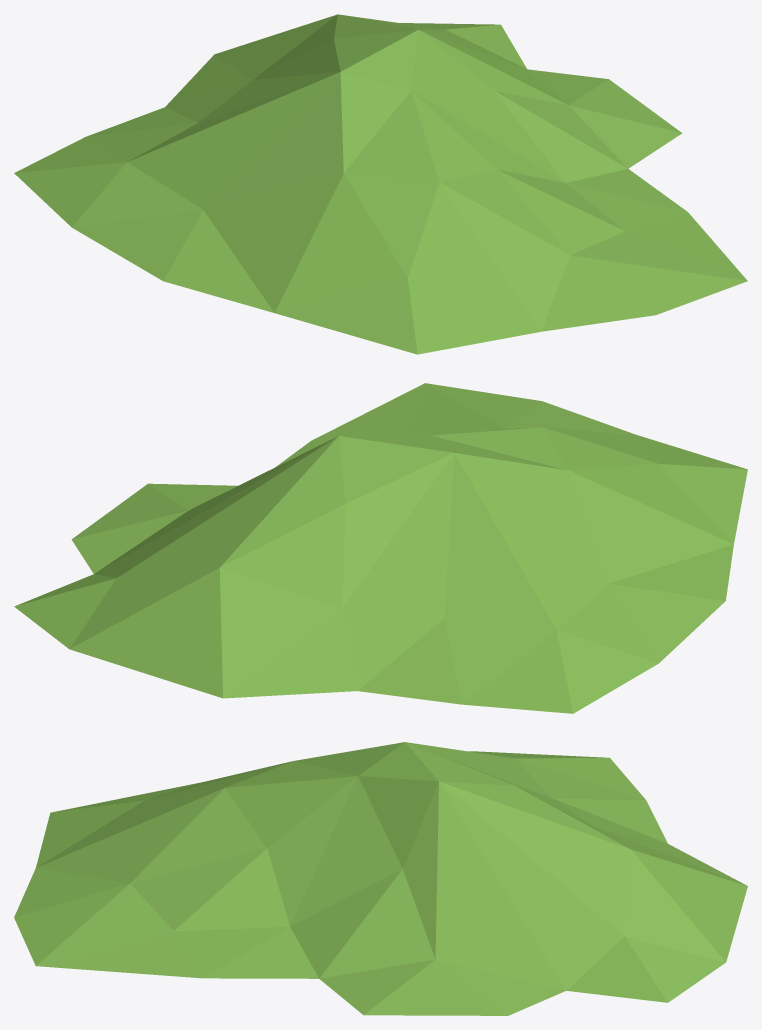
File: MT_Mountain_S_a_18_LOD.fbx
3 views of the same model, one above another, from view 1: azimuth 30°, elevation 25°; view 2: azimuth 150°, elevation 25°; view 3: azimuth 270°, elevation 25° (orthographic). The views are drawn at different scales.
Parts seen in each view (by area): view 1: MT_Mountain_S_a_18_LOD0; view 2: MT_Mountain_S_a_18_LOD0; view 3: MT_Mountain_S_a_18_LOD0.
Boxes of the visible parts, bbox=[...] form: MT_Mountain_S_a_18_LOD0: bbox=[14, 14, 747, 354]; MT_Mountain_S_a_18_LOD0: bbox=[14, 383, 747, 713]; MT_Mountain_S_a_18_LOD0: bbox=[14, 742, 747, 1015].
Size of what is drawn, in the model's own units: 1680 by 377 by 1973.
